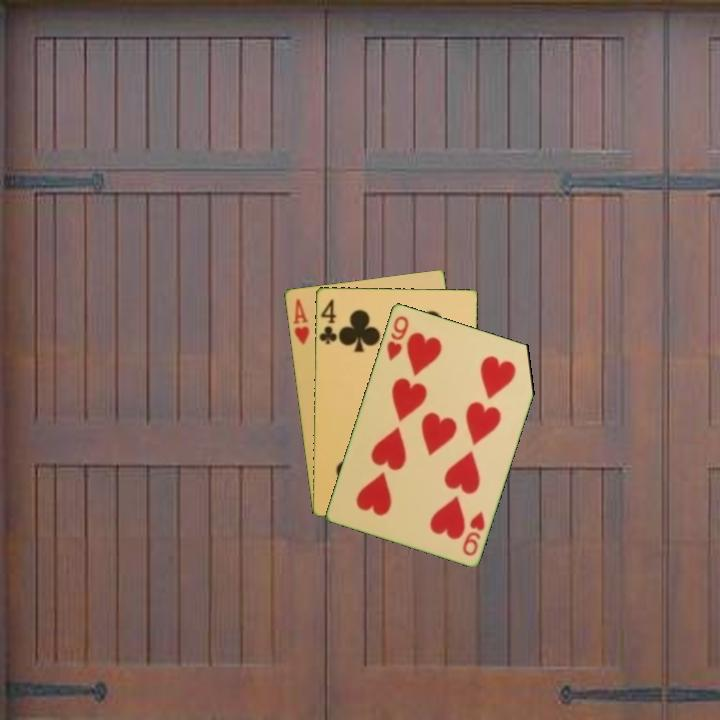4c: (316, 296, 339, 347)
9h: (459, 507, 488, 559), (383, 312, 411, 363)
Ah: (289, 295, 312, 347)
